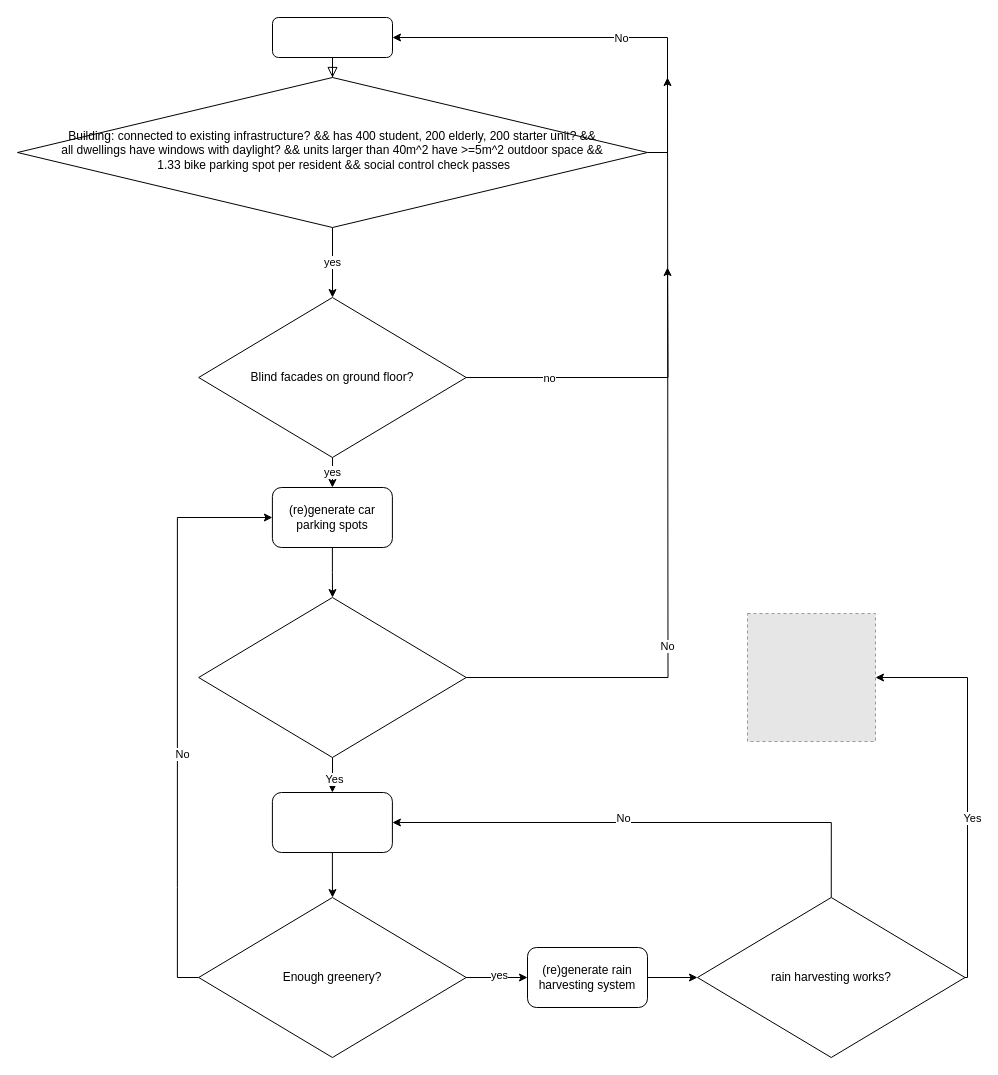
This 998x1075 diagram has some shape labels left out. Grey dashed boxes stand in for pictures. The centre of each missing label's shape, as x and y in pixels:
"(re)generate greenery" goes at point (331, 822).
"0.8 car parking spot per dwelling?" goes at point (332, 677).
"Generate new building" goes at point (332, 37).
